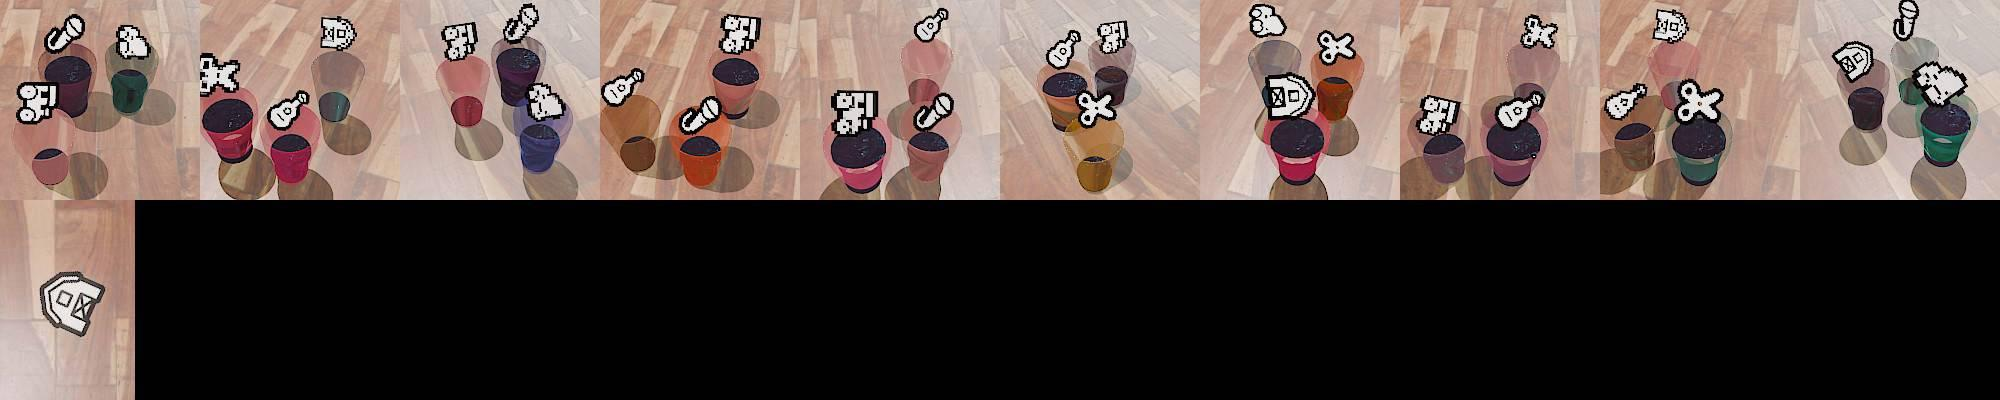icon: (38, 270, 106, 338), (1261, 71, 1316, 124), (1910, 61, 1967, 106), (830, 88, 878, 137), (1675, 80, 1725, 124), (1494, 87, 1545, 130), (1831, 41, 1874, 85), (199, 52, 242, 96), (15, 81, 59, 124), (1415, 94, 1460, 136), (267, 88, 310, 131), (718, 13, 762, 55), (1604, 81, 1650, 121), (912, 90, 955, 132), (44, 13, 88, 54), (680, 95, 723, 136), (602, 68, 646, 108), (525, 81, 567, 122), (1075, 89, 1119, 128), (440, 21, 480, 62), (1044, 28, 1083, 70), (502, 2, 540, 45), (1317, 29, 1357, 66), (1248, 3, 1287, 40), (320, 15, 357, 54), (1522, 14, 1560, 50), (115, 24, 152, 60), (1653, 7, 1689, 44), (913, 7, 949, 44), (1096, 20, 1129, 56), (1894, 0, 1920, 40)
